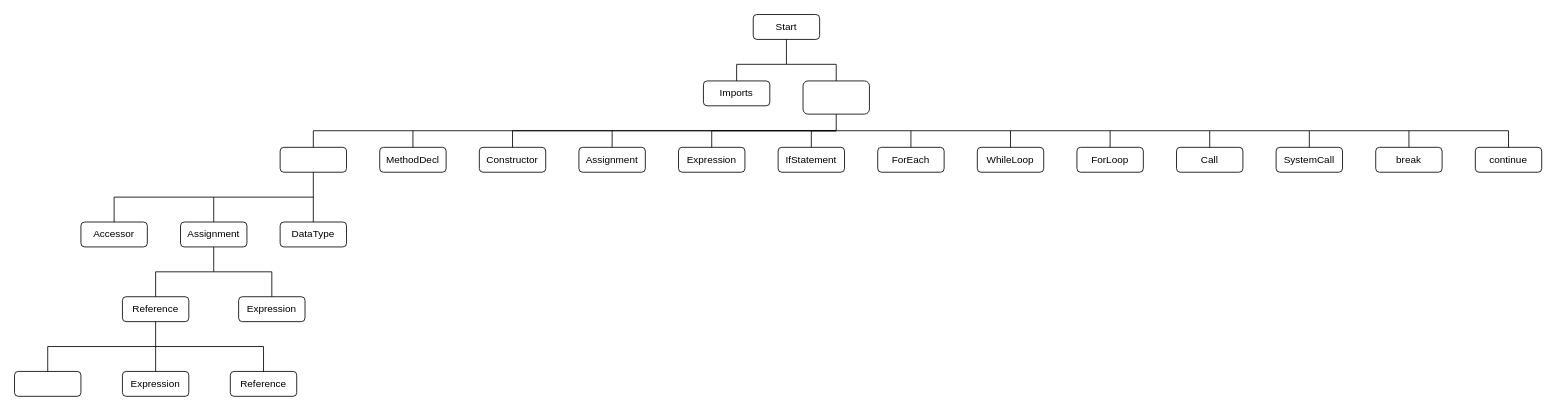
The diagram is 1556 pixels wide and 411 high, and some of its shapes have lost their labels. Here are the shapes that lost their labels. From the top down, the centre of each, then its label:
the point at 835,97: ClassDecl/ ClassDecl
the point at 313,159: VarDecl
the point at 47,383: Var
